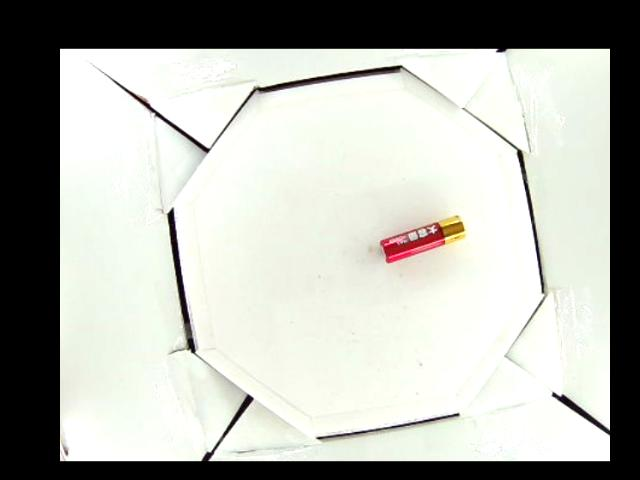Battery: (377, 213, 465, 261)
